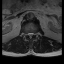CCS_normal: (29, 30, 31, 40)
LFS_normal: (34, 30, 36, 37)
LLS_normal: (31, 30, 34, 37)
RFS_normal: (25, 30, 27, 37)
RLS_normal: (27, 31, 29, 37)
